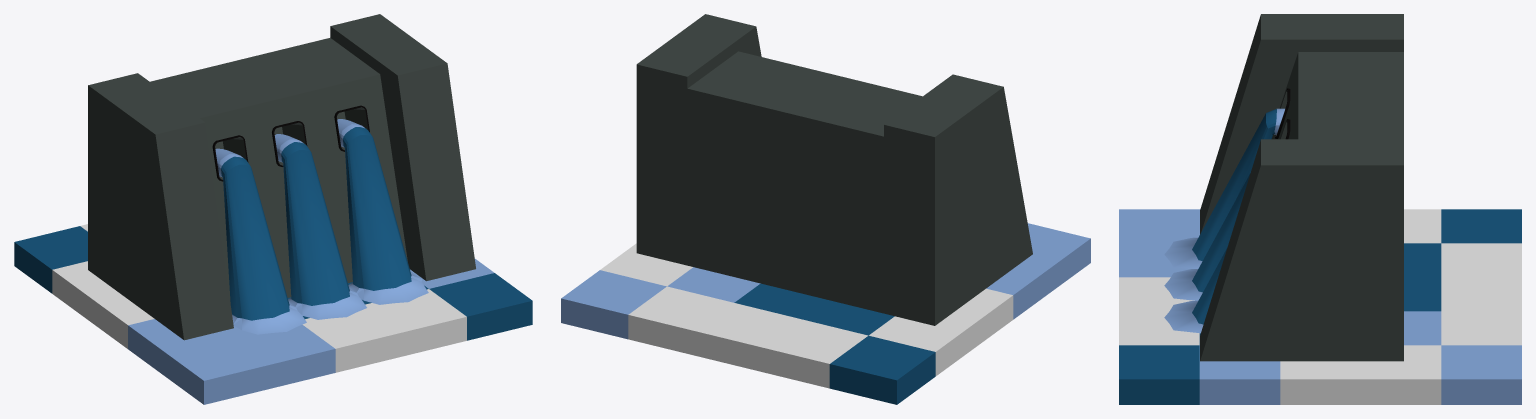
The model's file is 水力發電廠.fbx.
3 renders of one model, left to right at view 1: azimuth 30°, elevation 25°; view 2: azimuth 150°, elevation 25°; view 3: azimuth 270°, elevation 25°, orthographic. The views are drawn at different scales.
Parts seen in each view (by area): view 1: plane_water, Box190, Box178, Box176, Box189, Box188, Box187; view 2: Box178, plane_water, Box190, Box176; view 3: plane_water, Box176, Box190, Box178, Box187, Box188, Box189.
Part boxes in pixels (left/top/right/bottom): plane_water: left=14, top=224, right=532, bottom=404; Box190: left=88, top=73, right=233, bottom=340; Box178: left=150, top=38, right=407, bottom=302; Box176: left=330, top=14, right=475, bottom=281; Box189: left=337, top=119, right=428, bottom=304; Box188: left=274, top=134, right=366, bottom=319; Box187: left=215, top=148, right=306, bottom=334; Box178: left=687, top=51, right=922, bottom=313; plane_water: left=561, top=223, right=1090, bottom=404; Box190: left=884, top=74, right=1032, bottom=325; Box176: left=636, top=14, right=761, bottom=265; plane_water: left=1119, top=209, right=1521, bottom=404; Box176: left=1200, top=139, right=1403, bottom=361; Box190: left=1200, top=14, right=1403, bottom=234; Box178: left=1272, top=52, right=1403, bottom=139; Box187: left=1164, top=108, right=1284, bottom=268; Box188: left=1164, top=173, right=1250, bottom=300; Box189: left=1164, top=248, right=1227, bottom=333.
Size of the model in its own units: 100 by 63.09 by 100.
